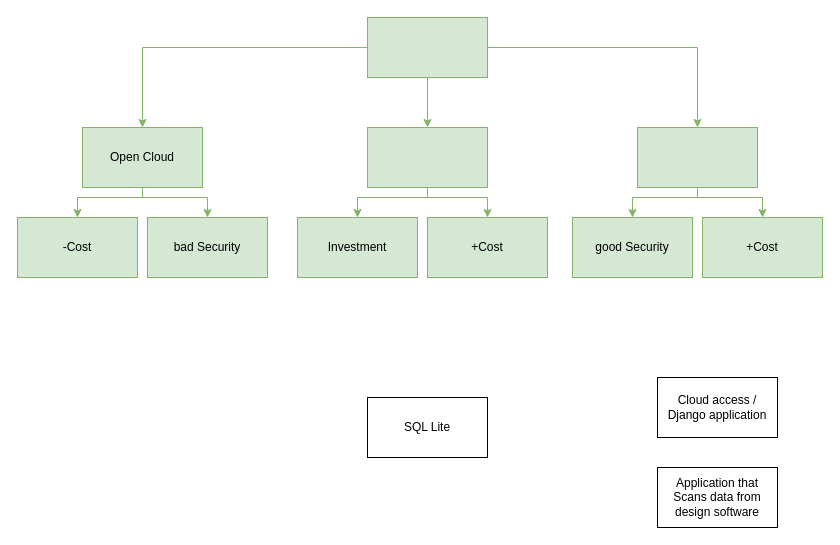
Some shapes in this 840 by 545 pixel diagram are drawn without their labels. The centre of each missing label's shape, as x and y in pixels:
"Cloud Server Platform" goes at point (427, 47).
"Local" goes at point (427, 157).
"Private Cloud" goes at point (697, 157).
